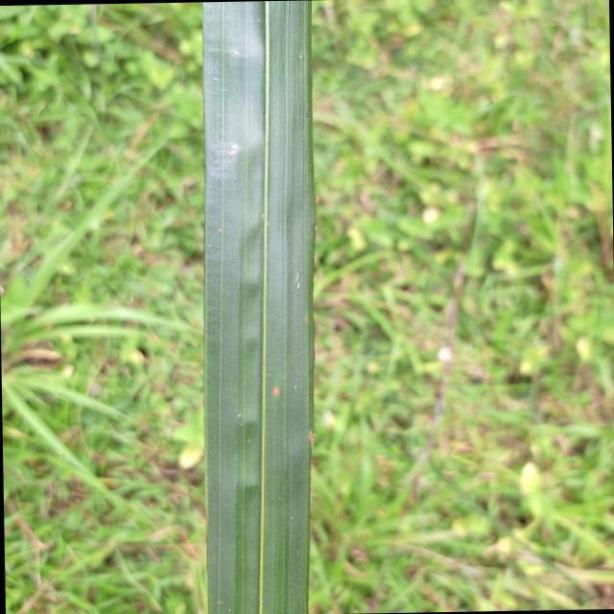Boron: (198, 0, 317, 614)
